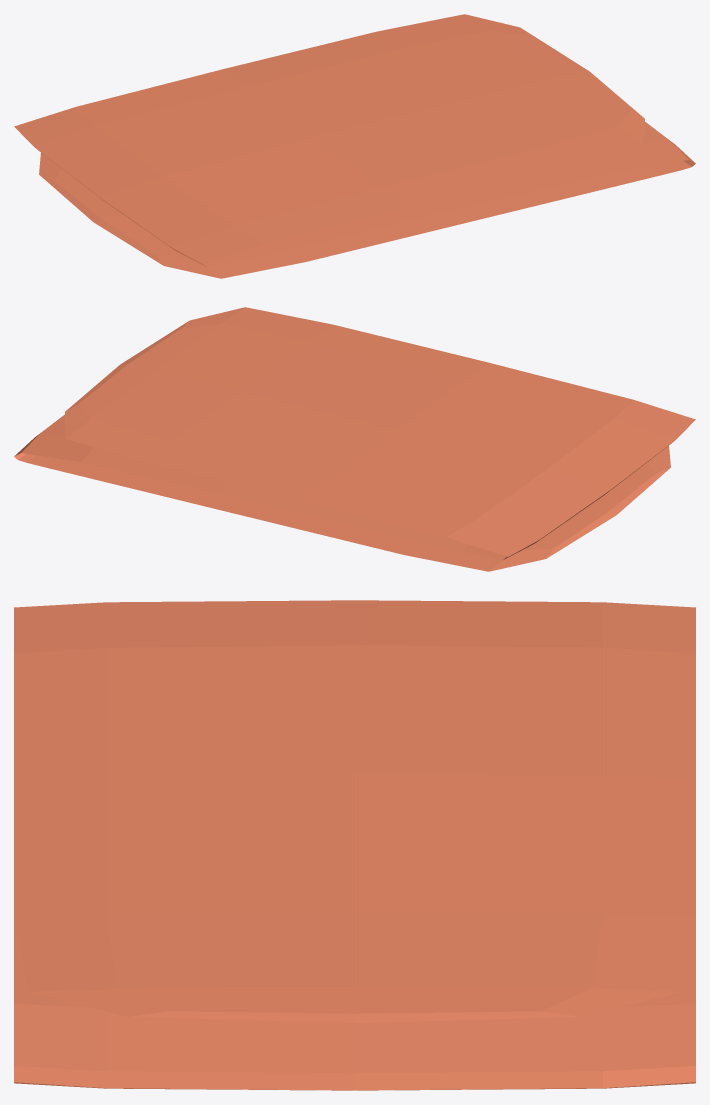
Rendered from Towel.fbx.
3 views of the same model, one above another, from view 1: azimuth 30°, elevation 25°; view 2: azimuth 150°, elevation 25°; view 3: azimuth 270°, elevation 25° (orthographic). The views are drawn at different scales.
Parts seen in each view (by area): view 1: Towel; view 2: Towel; view 3: Towel.
Boxes of the visible parts, x1=… form: Towel: x1=14, y1=14, x2=695, y2=278; Towel: x1=14, y1=307, x2=695, y2=571; Towel: x1=14, y1=600, x2=695, y2=1090.
Bounding box in the file's own units: 97.65 × 6.26 × 61.6.
